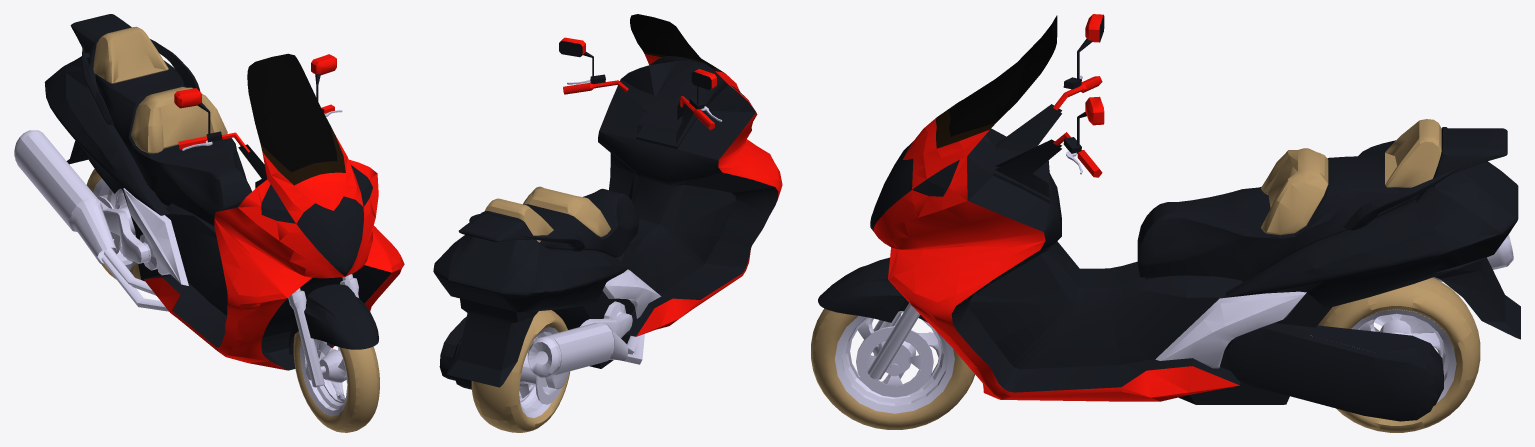
The model's file is Bike.FBX.
3 renders of one model, left to right at view 1: azimuth 30°, elevation 25°; view 2: azimuth 150°, elevation 25°; view 3: azimuth 270°, elevation 25°, orthographic. The views are drawn at different scales.
Visible parts, largest first — view 1: Bike, Layer:0, Layer:0_Íî; view 2: Layer:0, Bike, Layer:0_Íî; view 3: Layer:0, Bike, Layer:0_Íî.
Boxes of the visible parts, x1,y1,x2,y2 form: Bike: (86,26,404,432); Layer:0: (44,14,391,370); Layer:0_Íî: (14,110,358,416); Layer:0: (433,41,778,389); Bike: (471,14,782,432); Layer:0_Íî: (519,80,721,417); Layer:0: (818,15,1520,421); Bike: (811,14,1480,432); Layer:0_Íî: (835,75,1513,413).
Size of the model in its own units: 20.02 by 35.76 by 57.1.
